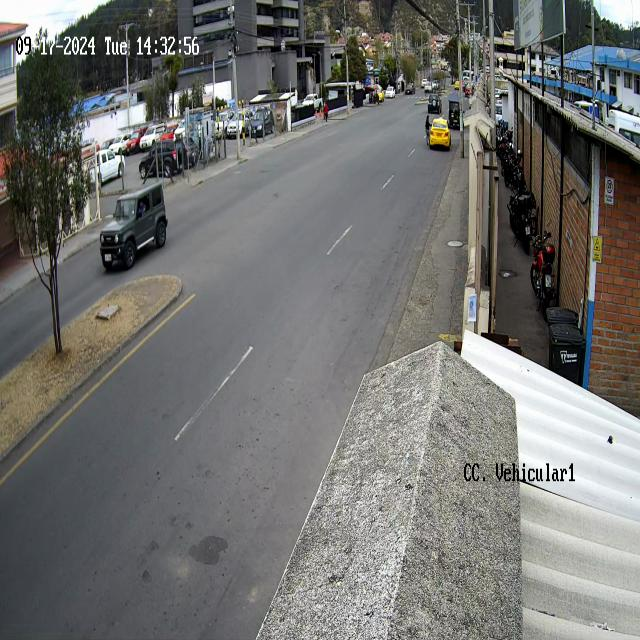SUV: (99, 182, 168, 274)
